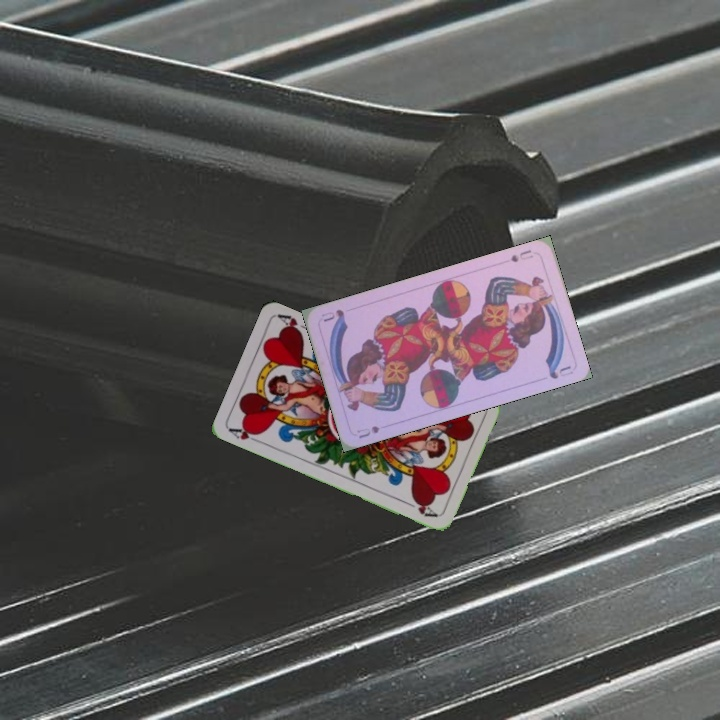HA: (226, 422, 265, 446)
SU: (506, 245, 536, 265), (353, 422, 382, 441)
